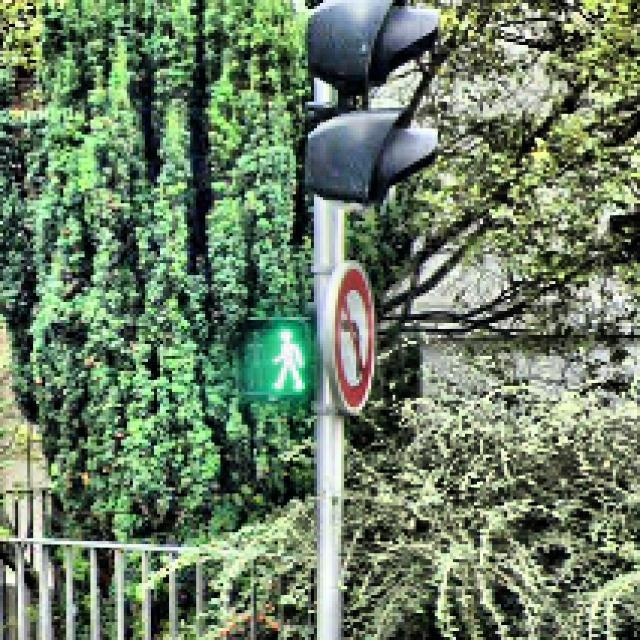green_light: (265, 319, 306, 392)
